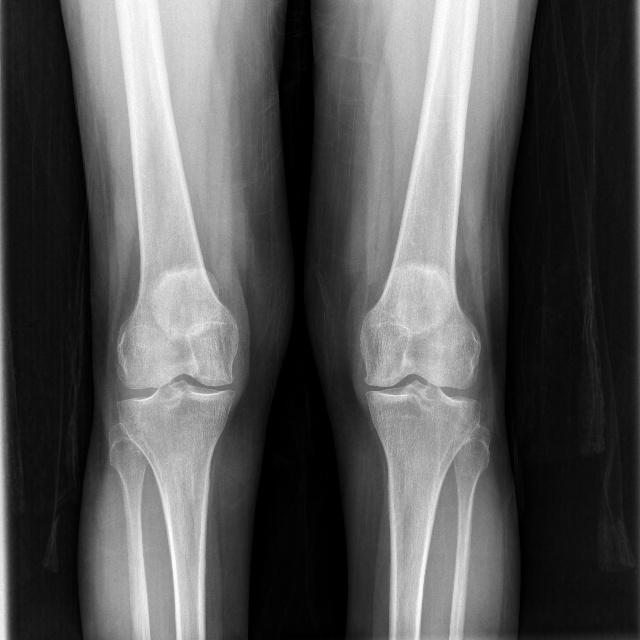Knee: (356, 324, 481, 452), (112, 330, 239, 447)
